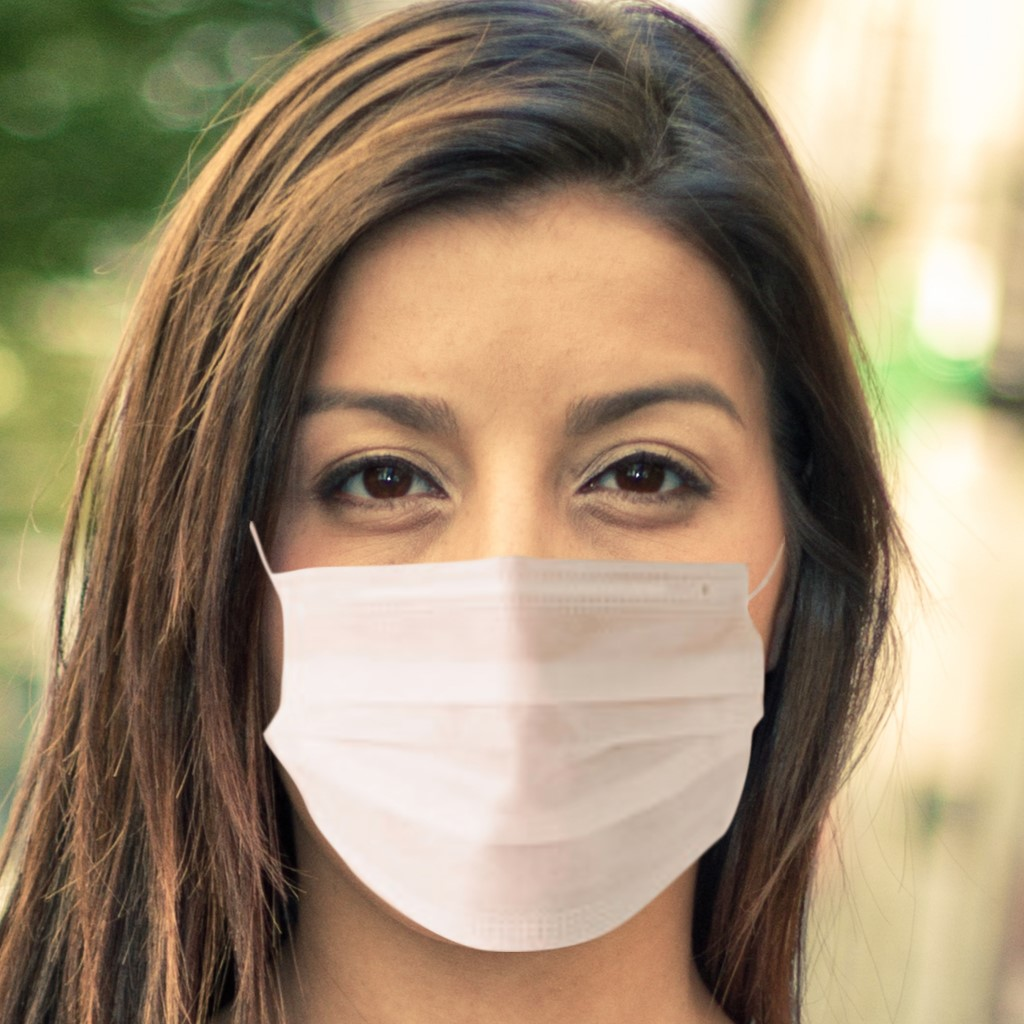con_mascara: (234, 179, 785, 951)
